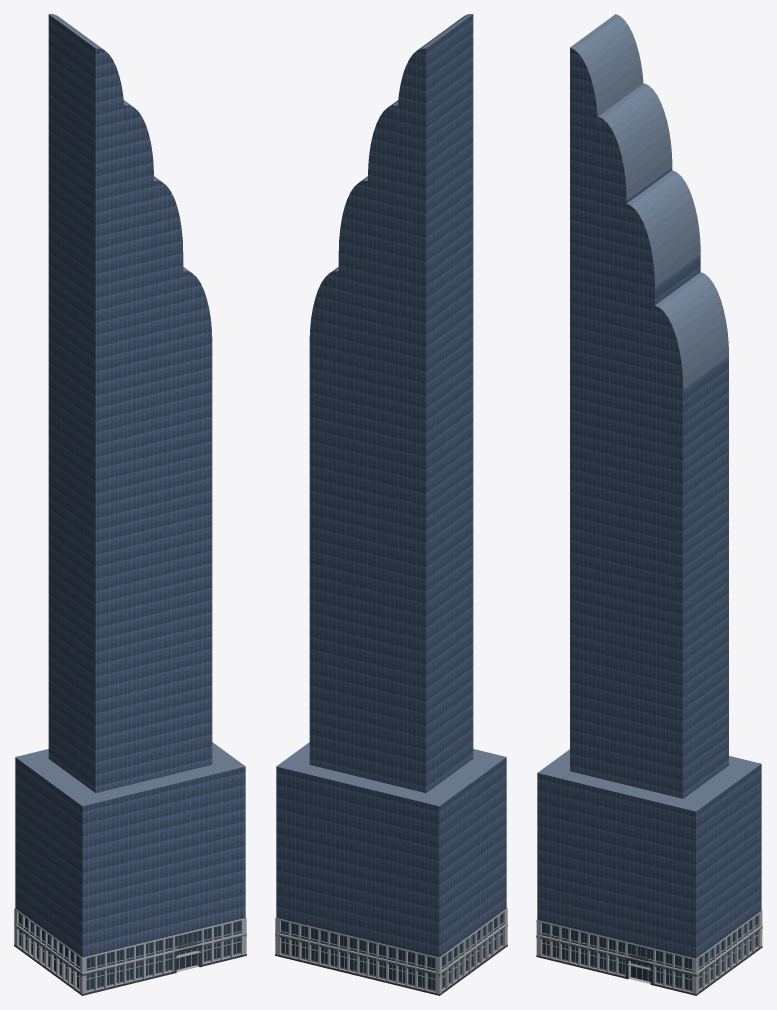
File: one57.glb
3 views of the same model, side by side, from view 1: azimuth 30°, elevation 25°; view 2: azimuth 150°, elevation 25°; view 3: azimuth 330°, elevation 25° (orthographic). The views are drawn at different scales.
Visible parts, largest first — view 1: one57; view 2: one57; view 3: one57.
Part boxes in pixels (x1,y1,x2,y2): one57: (14,14,246,995); one57: (275,14,507,995); one57: (536,14,762,995).
Size of the model in its own units: 56.52 by 306 by 40.6.
Materials: 2 (2 with a texture image).
